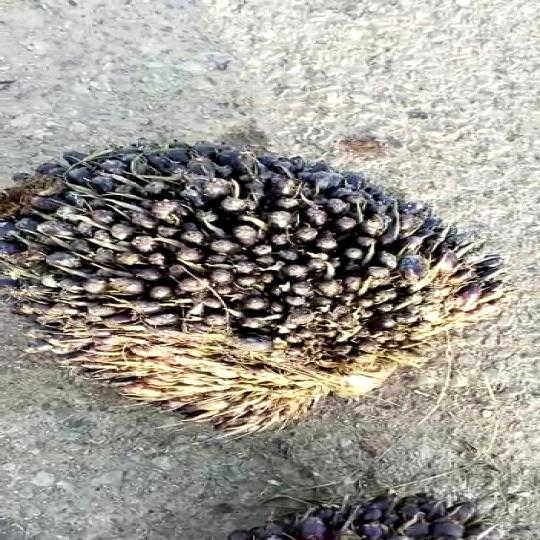mentah: (0, 118, 538, 440)
